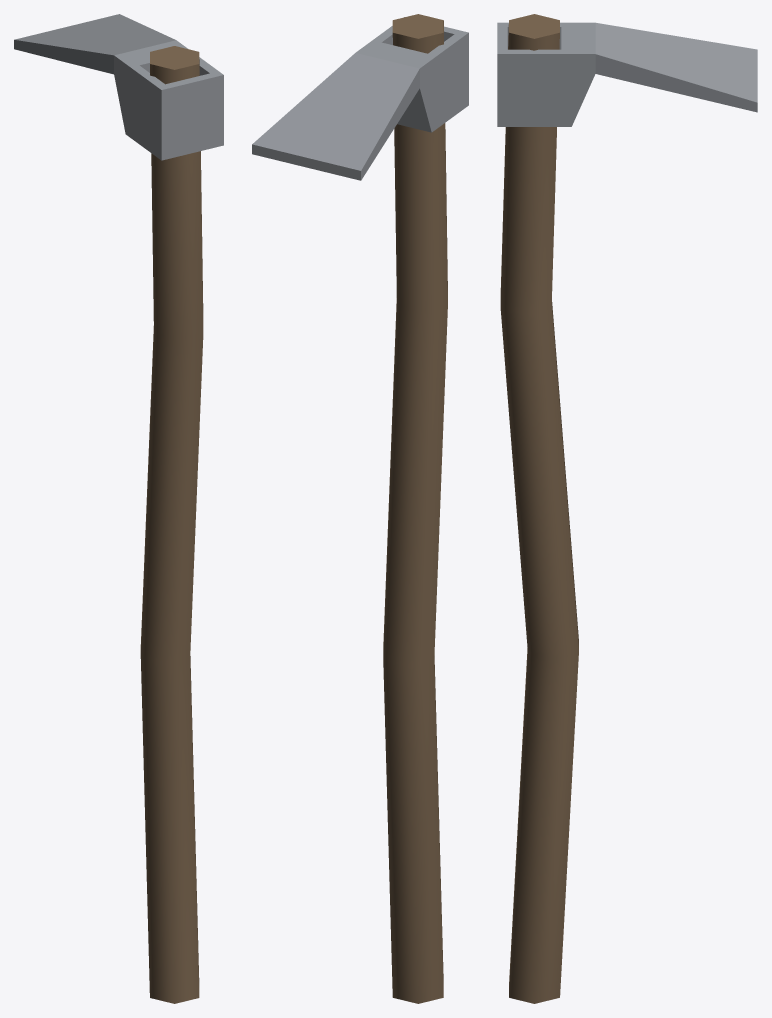
File: P_Hoe_01_LD.fbx
The picture shows the model from 3 angles, left to right: view 1: azimuth 30°, elevation 25°; view 2: azimuth 150°, elevation 25°; view 3: azimuth 270°, elevation 25°; orthographic projection. The views are drawn at different scales.
Parts seen in each view (by area): view 1: P_Hoe_01; view 2: P_Hoe_01; view 3: P_Hoe_01.
Part boxes in pixels (<box>): P_Hoe_01: <box>14,14,223,1003</box>; P_Hoe_01: <box>252,14,468,1003</box>; P_Hoe_01: <box>497,14,757,1003</box>.
Size of the model in its own units: 0.1259 by 1.06 by 0.2603.
1 material, 1 textured.
